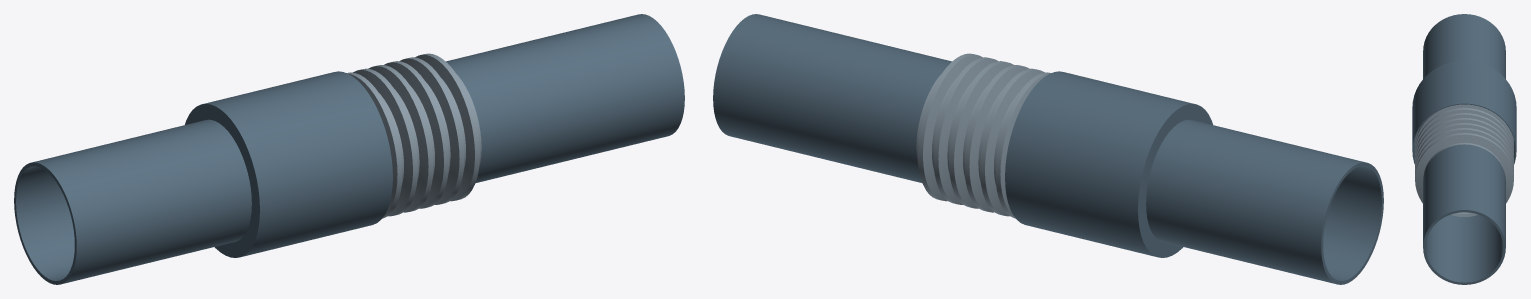
Rendered from silf-dn150-L890-D159-k-o325.glb.
The picture shows the model from 3 angles, left to right: view 1: azimuth 30°, elevation 25°; view 2: azimuth 150°, elevation 25°; view 3: azimuth 270°, elevation 25°; orthographic projection. The views are drawn at different scales.
Parts seen in each view (by area): view 1: patrubok_1, patrubok_2, osnovanie_kozhuh_1, prokladka_silfon_1; view 2: patrubok_1, patrubok_2, osnovanie_kozhuh_1, prokladka_silfon_1; view 3: patrubok_2, osnovanie_kozhuh_1, prokladka_silfon_1, patrubok_1.
Part boxes in pixels (x1=…): patrubok_1: x1=14, y1=119, x2=251, y2=284; patrubok_2: x1=446, y1=14, x2=684, y2=183; osnovanie_kozhuh_1: x1=185, y1=71, x2=392, y2=257; prokladka_silfon_1: x1=347, y1=53, x2=481, y2=218; patrubok_1: x1=1146, y1=119, x2=1383, y2=284; patrubok_2: x1=713, y1=14, x2=951, y2=183; osnovanie_kozhuh_1: x1=1005, y1=71, x2=1212, y2=257; prokladka_silfon_1: x1=916, y1=53, x2=1050, y2=218; patrubok_2: x1=1423, y1=144, x2=1505, y2=284; osnovanie_kozhuh_1: x1=1412, y1=60, x2=1516, y2=164; prokladka_silfon_1: x1=1415, y1=104, x2=1513, y2=216; patrubok_1: x1=1423, y1=14, x2=1505, y2=78.
Size of the model in its own units: 890 by 200 by 200.
